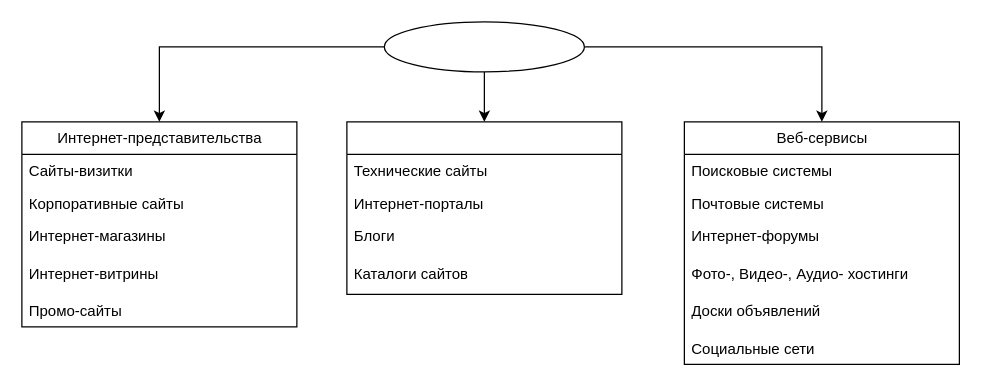
This 981x390 diagram has some shape labels left out. Here are the shapes that lost their labels. From the top down, the box of each, then its label:
(383, 21, 584, 72): Виды сайтов
(346, 121, 622, 294): Информационные услуги
